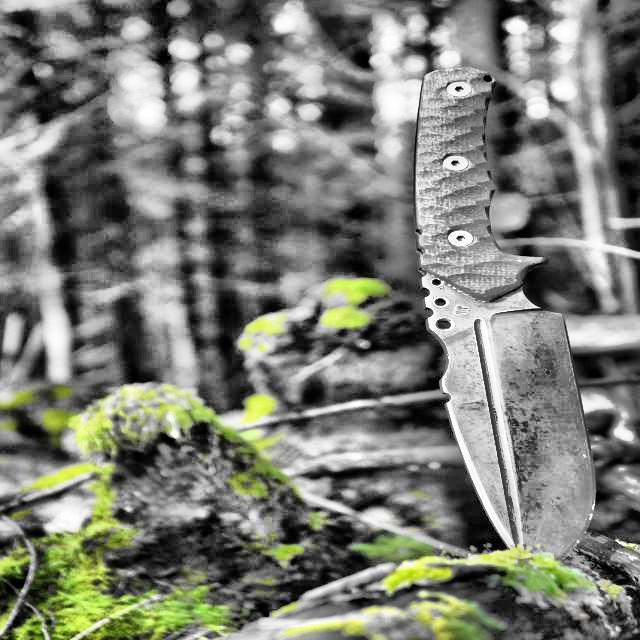knife: (420, 64, 606, 568)
